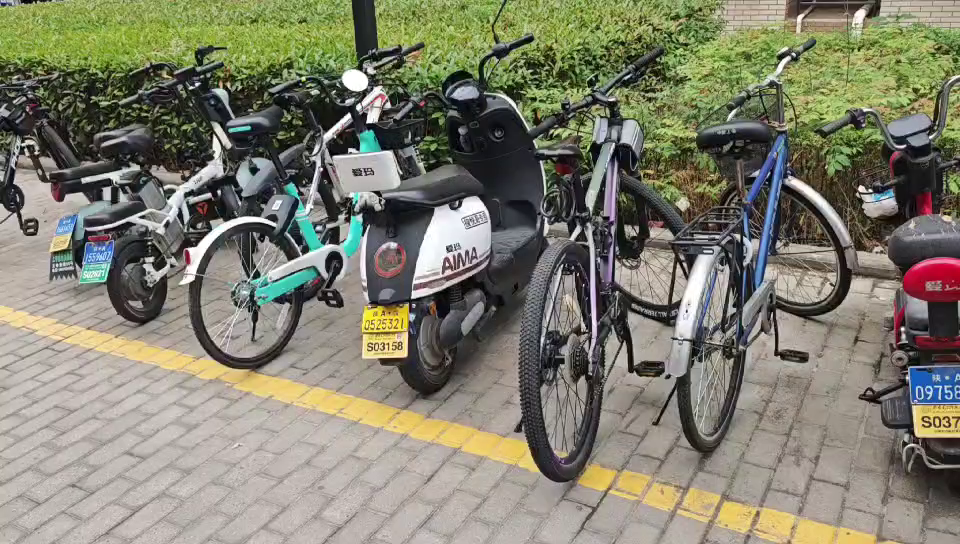others: (669, 42, 875, 474), (343, 48, 525, 387), (826, 93, 960, 488), (539, 73, 659, 485), (75, 68, 204, 313), (3, 69, 97, 259)
shared_bike_qingcong: (218, 53, 381, 362)
